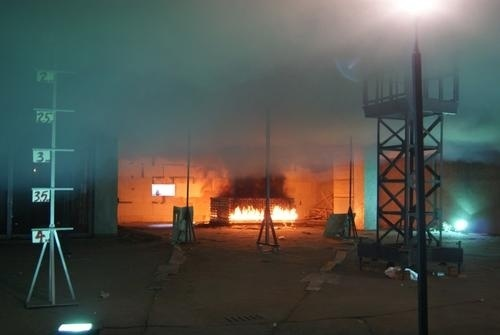fire: (226, 199, 300, 224)
